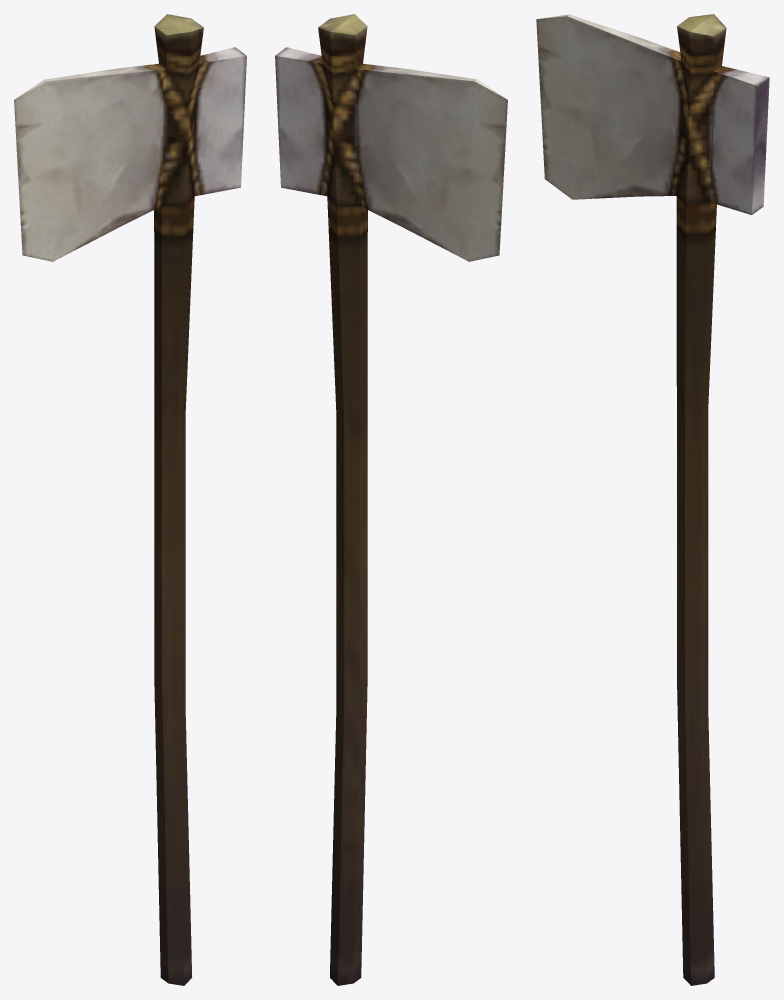
File: Bison_commonAxe.obj
The picture shows the model from 3 angles, left to right: view 1: azimuth 30°, elevation 25°; view 2: azimuth 150°, elevation 25°; view 3: azimuth 330°, elevation 25°; orthographic projection.
Visible parts, largest first — view 1: Bison_commonAxe_tri; view 2: Bison_commonAxe_tri; view 3: Bison_commonAxe_tri.
Part boxes in pixels (x1,y1,x2,y2): Bison_commonAxe_tri: (14,14,246,985); Bison_commonAxe_tri: (275,14,507,985); Bison_commonAxe_tri: (536,14,769,985).
Bounding box in the file's own units: 0.9279 × 3.73 × 0.1722.
Materials: 1 (1 with a texture image).
